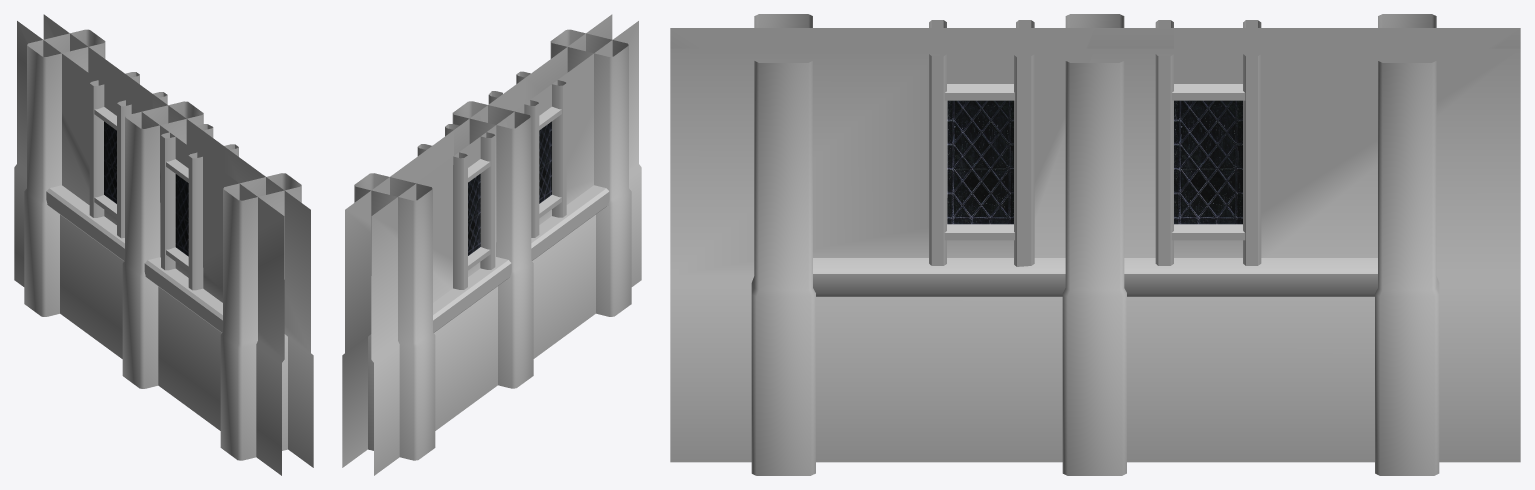
Rendered from House_01_Rear_01.FBX.
The picture shows the model from 3 angles, left to right: view 1: azimuth 30°, elevation 25°; view 2: azimuth 150°, elevation 25°; view 3: azimuth 270°, elevation 25°; orthographic projection. The views are drawn at different scales.
Visible parts, largest first — view 1: House_01_Rear_01; view 2: House_01_Rear_01; view 3: House_01_Rear_01.
Part boxes in pixels (x1=…): House_01_Rear_01: x1=14, y1=14, x2=313, y2=475; House_01_Rear_01: x1=342, y1=14, x2=641, y2=475; House_01_Rear_01: x1=670, y1=14, x2=1520, y2=475.
Size of the model in its own units: 34.36 by 128 by 240.
